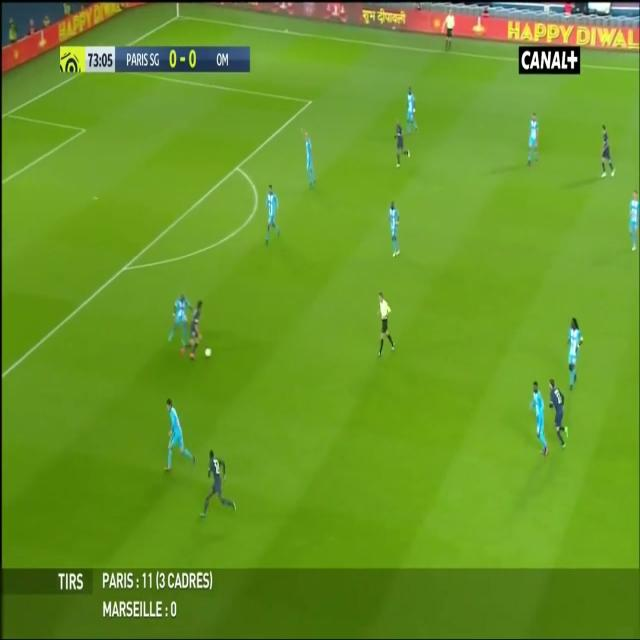Ball: (203, 343, 213, 362)
Player: (198, 446, 239, 524), (163, 395, 195, 474), (528, 378, 551, 462), (179, 298, 206, 364), (548, 373, 570, 452), (566, 313, 586, 396), (166, 292, 193, 348), (598, 121, 620, 183), (262, 183, 282, 247), (302, 131, 320, 191), (524, 110, 541, 168), (394, 119, 412, 170), (388, 197, 402, 262), (627, 186, 639, 254), (405, 85, 418, 136)
Referee: (376, 289, 397, 362), (444, 7, 456, 54)
